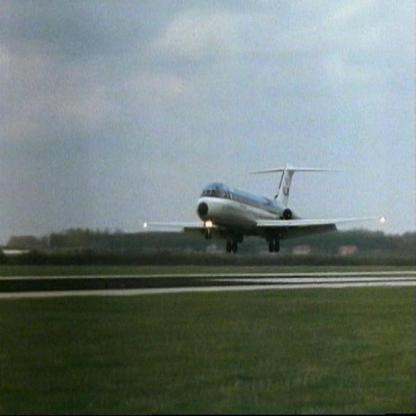CIV_Plane: (138, 157, 380, 260)
